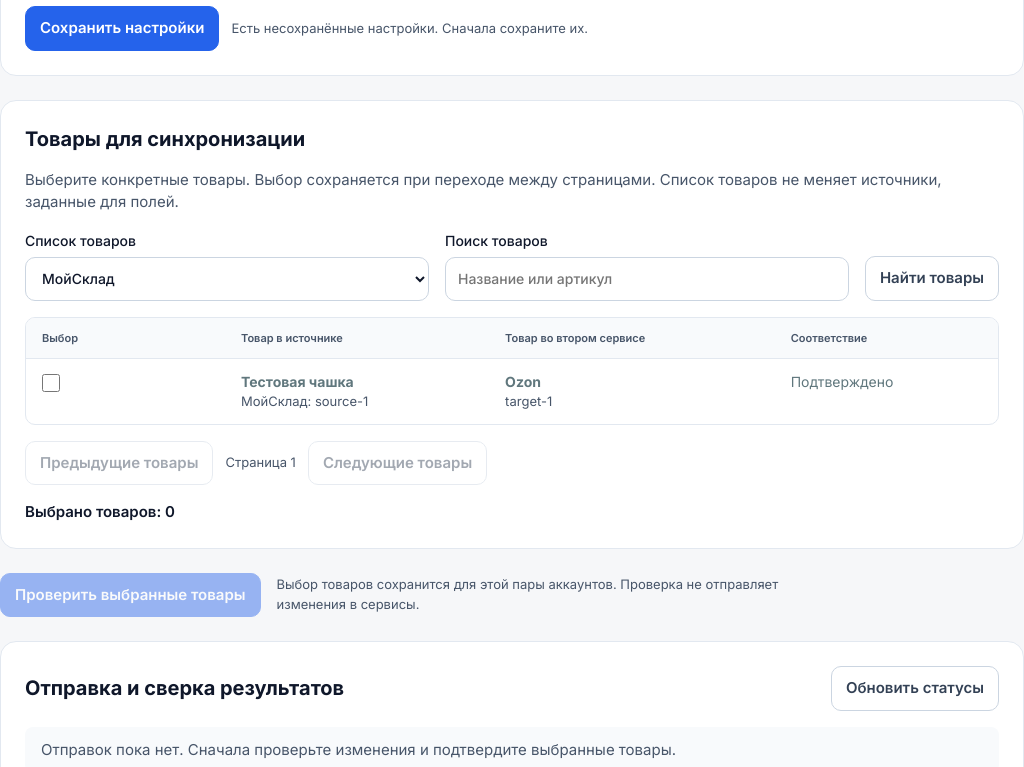
Test: keeps publication unavailable even if a preview incorrectly advertises a ready decision
The image size is (1024, 767).
(page scrolled)
Click the checkbox named "Выбрать товар Тестовая чашка": click(51, 383) left=42, top=374, right=60, bottom=392
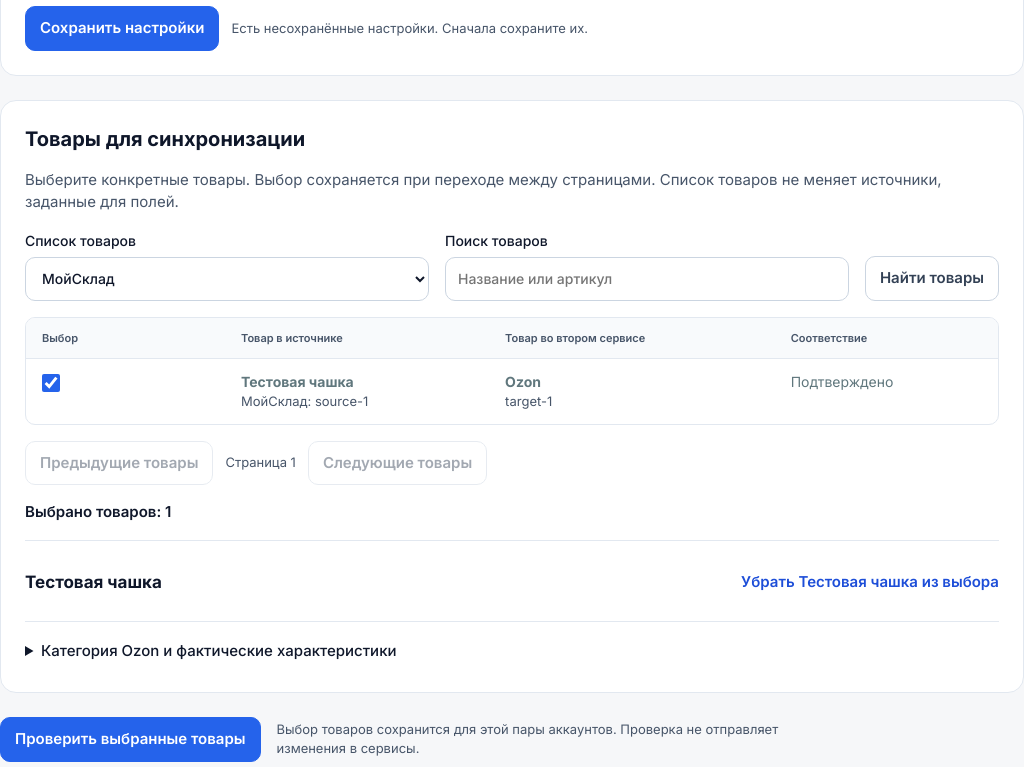
Click the button "Проверить выбранные товары": click(130, 739) left=0, top=717, right=260, bottom=762
(page scrolled)
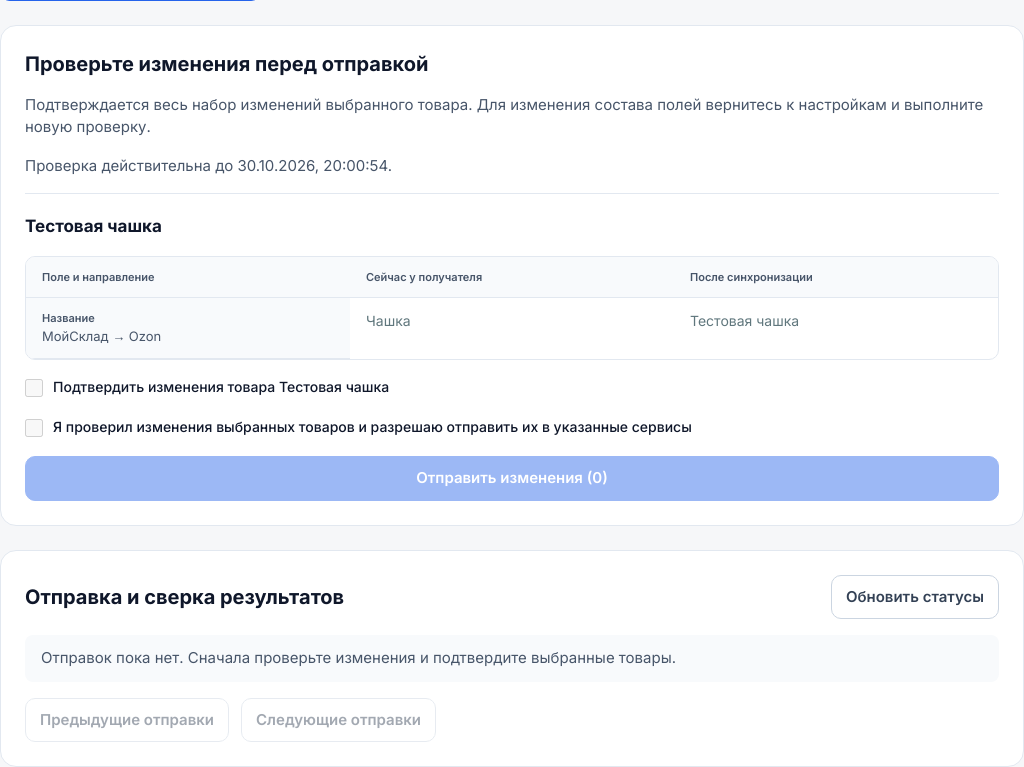
Result: the checkbox labelled "Подтвердить изменения товара Тестовая чашка" is disabled at left=25, top=379, right=43, bottom=397
